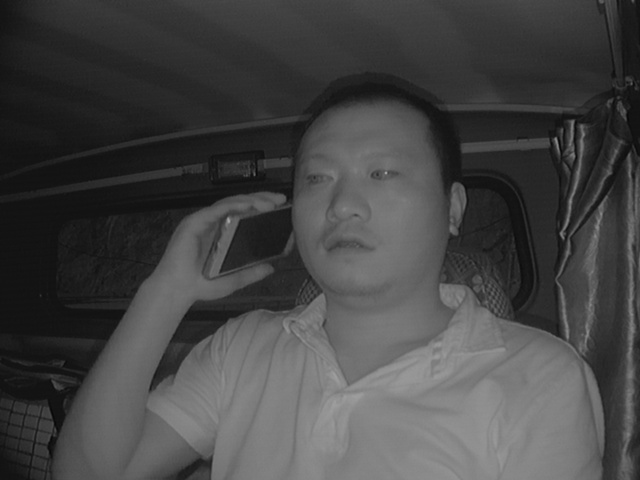hand: (169, 190, 285, 301)
